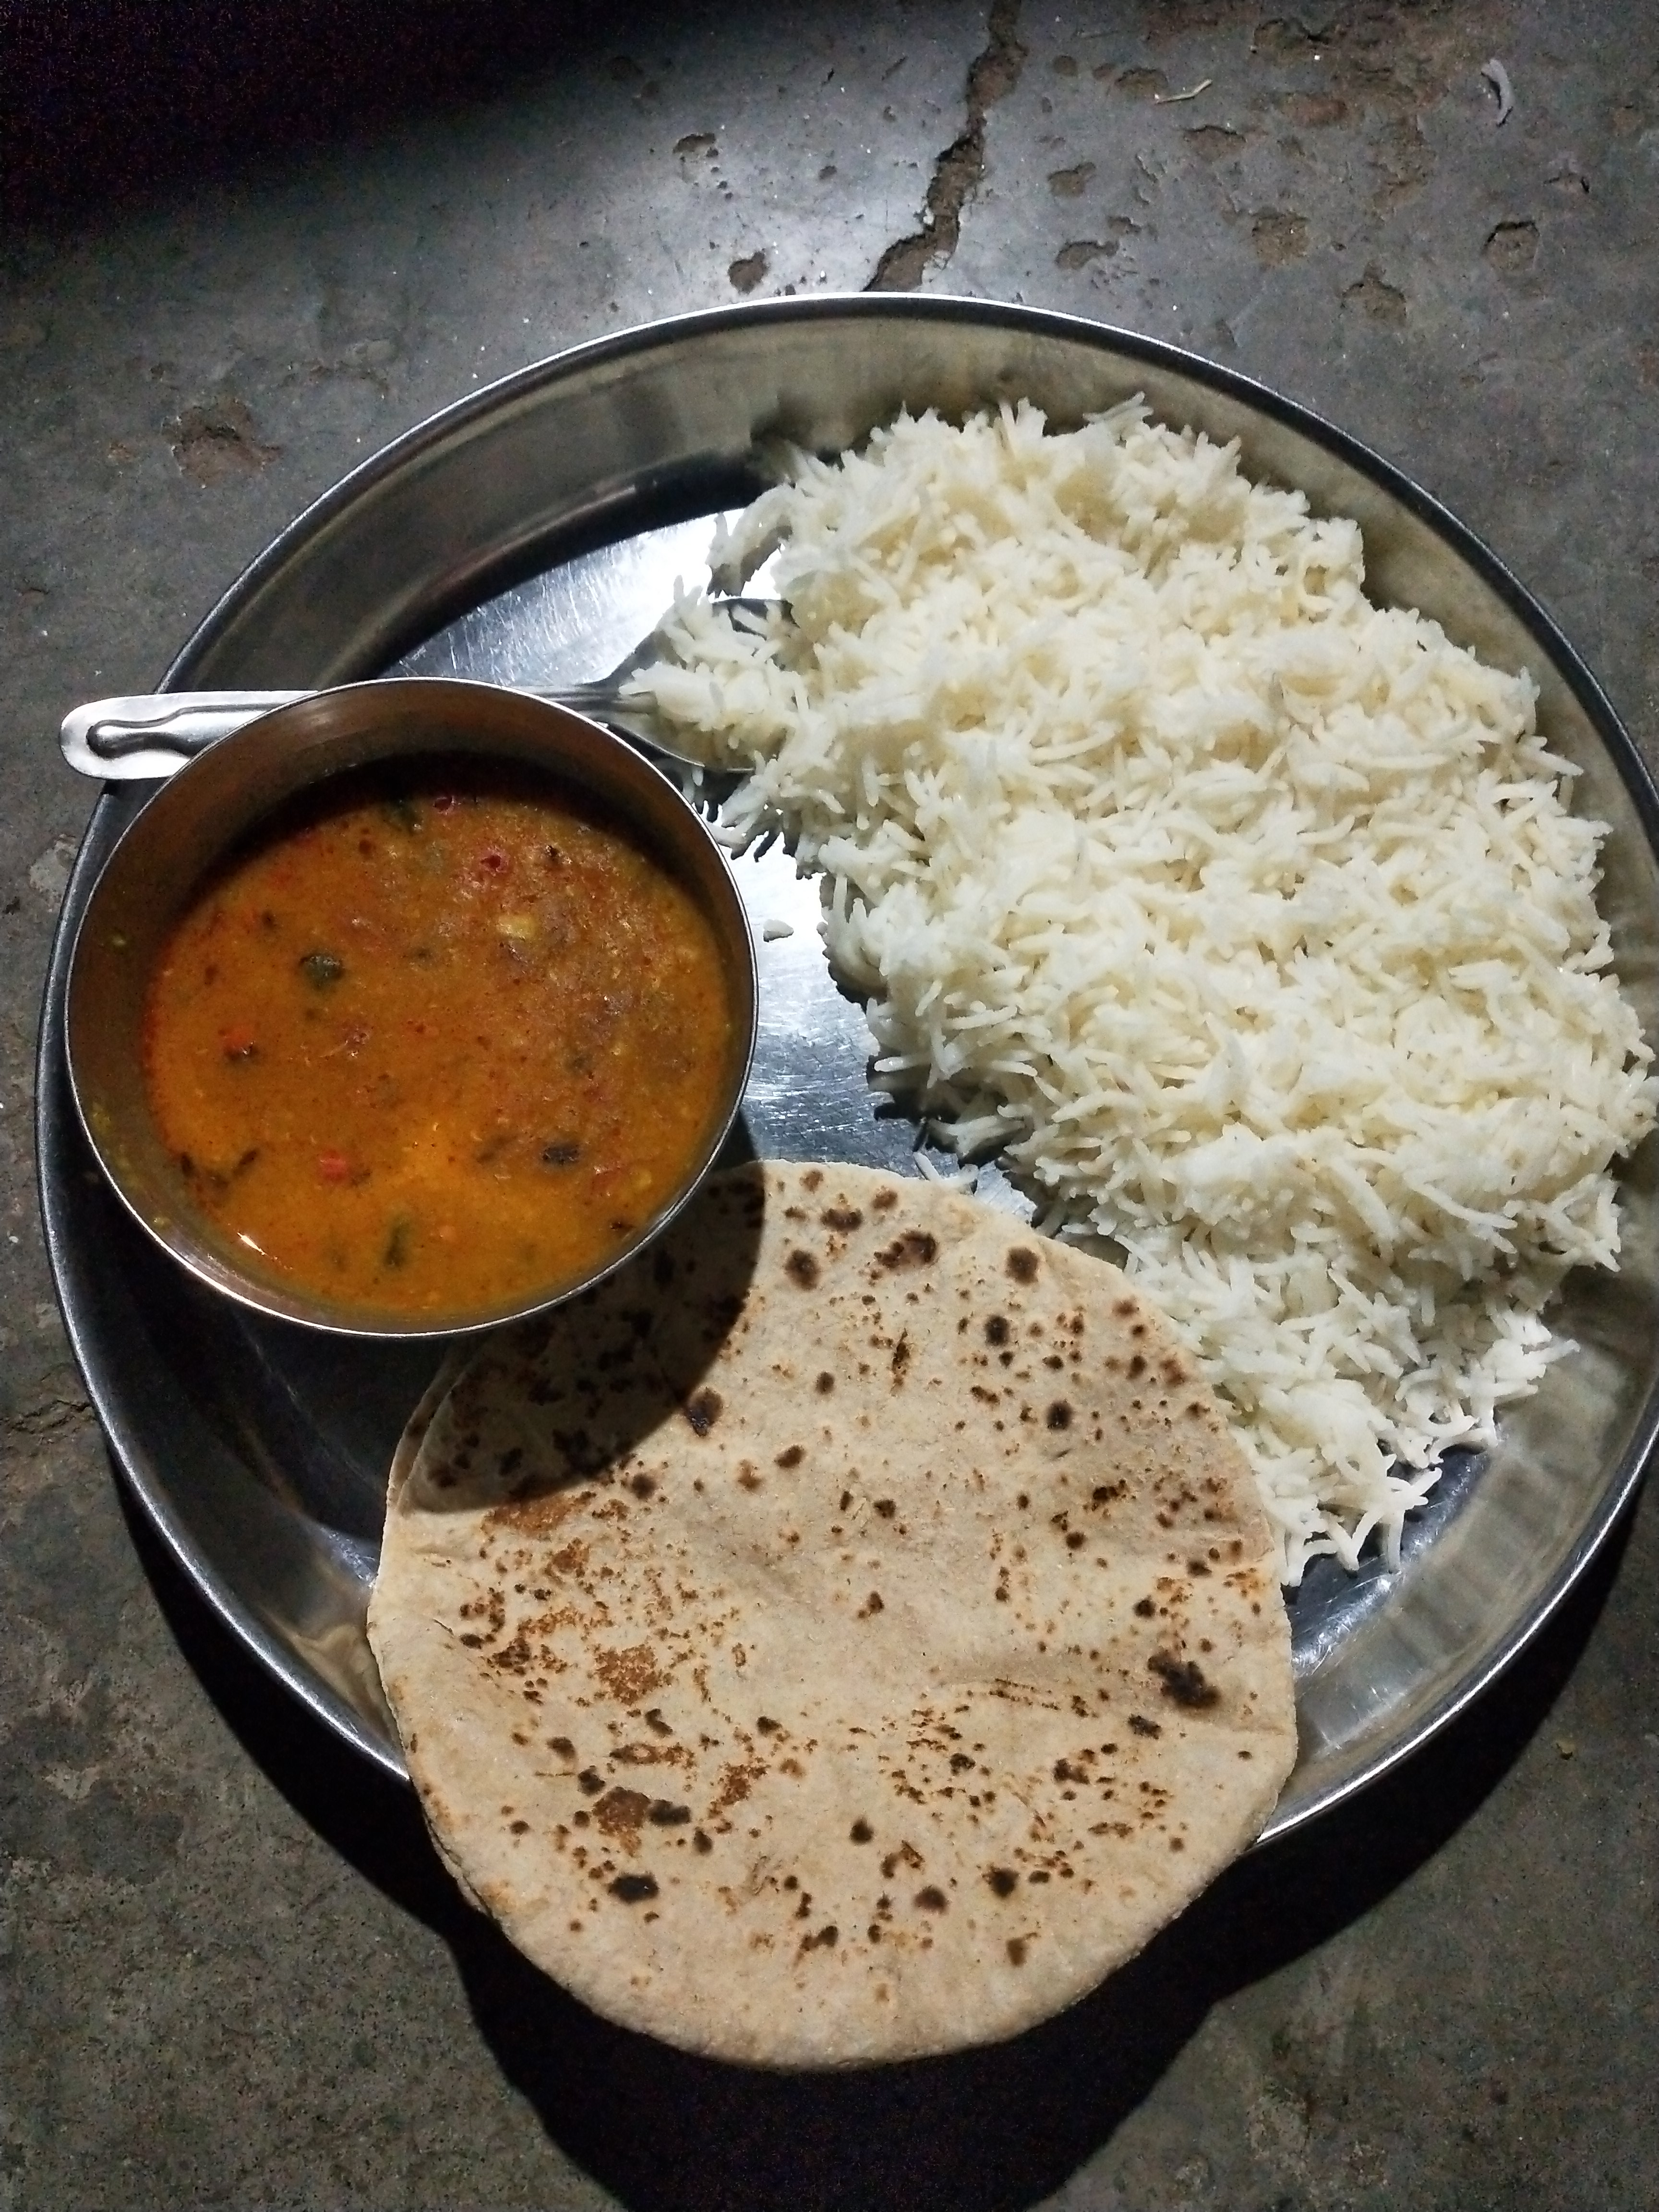food: (131, 369, 1659, 2080)
